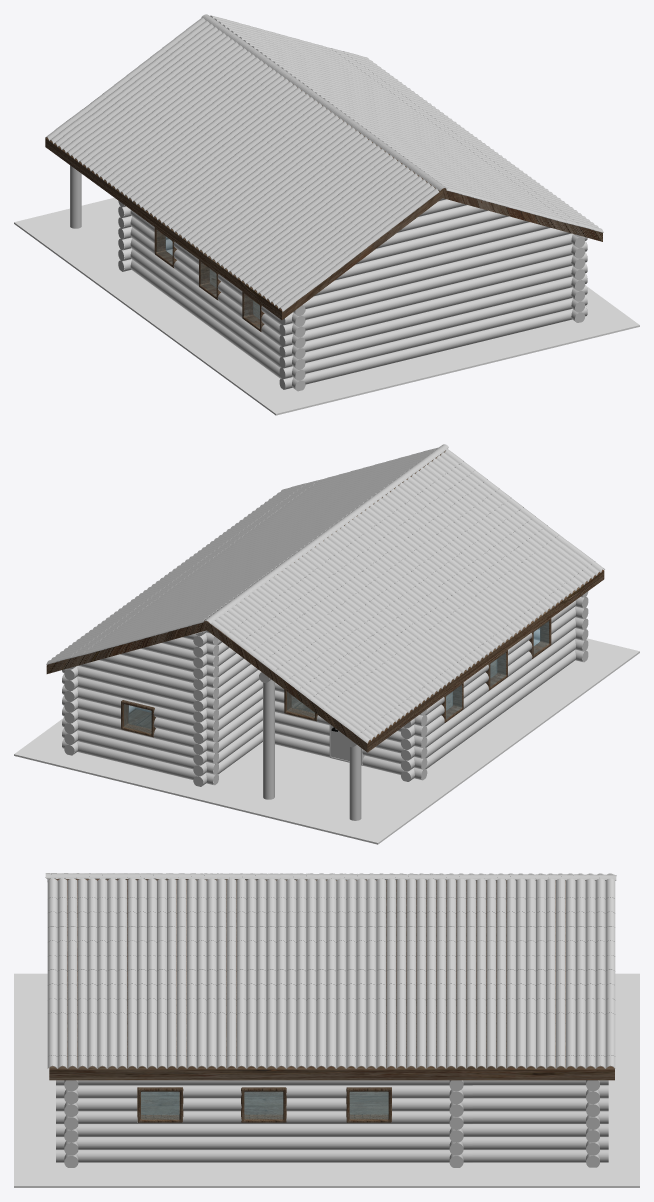
The model's file is Wood House 5.fbx.
3 renders of one model, top to bottom at view 1: azimuth 30°, elevation 25°; view 2: azimuth 150°, elevation 25°; view 3: azimuth 270°, elevation 25°, orthographic. The views are drawn at different scales.
Visible parts, largest first — view 1: Cylinder.004, Cylinder.009, Cube, Cylinder.021, Cube.004, Cylinder.022, Cube.026, Cube.025, Cylinder.014, Cylinder.001; view 2: Cylinder.004, Cube, Cylinder.011, Cylinder.021, Cube.004, Cylinder.020, Cylinder.022, Cylinder.001, Cube.026, Cube.025, Cylinder.013, Cylinder.014 (+2 smaller); view 3: Cylinder.004, Cylinder.006, Cube, Cube.004, Cube.025, Cylinder.022, Cube.001, Cube.026.
Part boxes in pixels (left/top/right/bottom): Cylinder.004: left=45, top=14, right=603, bottom=311; Cylinder.009: left=281, top=198, right=587, bottom=389; Cube: left=14, top=197, right=639, bottom=415; Cylinder.021: left=130, top=210, right=304, bottom=389; Cube.004: left=45, top=78, right=602, bottom=319; Cylinder.022: left=118, top=201, right=584, bottom=391; Cube.026: left=154, top=227, right=264, bottom=331; Cube.025: left=157, top=230, right=259, bottom=327; Cylinder.014: left=70, top=165, right=81, bottom=228; Cylinder.001: left=120, top=205, right=172, bottom=271; Cylinder.004: left=46, top=444, right=604, bottom=743; Cube: left=14, top=638, right=639, bottom=844; Cylinder.011: left=62, top=630, right=216, bottom=784; Cylinder.021: left=400, top=600, right=575, bottom=780; Cube.004: left=46, top=450, right=604, bottom=752; Cylinder.020: left=195, top=630, right=262, bottom=785; Cylinder.022: left=64, top=591, right=588, bottom=786; Cylinder.001: left=135, top=682, right=424, bottom=779; Cube.026: left=121, top=618, right=551, bottom=737; Cube.025: left=124, top=621, right=548, bottom=733; Cylinder.013: left=263, top=679, right=274, bottom=799; Cylinder.014: left=349, top=745, right=361, bottom=820; Cylinder.004: left=45, top=873, right=616, bottom=1068; Cylinder.006: left=56, top=1080, right=608, bottom=1162; Cube: left=14, top=973, right=639, bottom=1187; Cube.004: left=49, top=879, right=614, bottom=1080; Cube.025: left=141, top=1091, right=388, bottom=1119; Cylinder.022: left=64, top=1080, right=599, bottom=1167; Cube.001: left=137, top=1087, right=388, bottom=1116; Cube.026: left=137, top=1087, right=391, bottom=1122.
Size of the model in its own units: 1202 by 549 by 1498.
